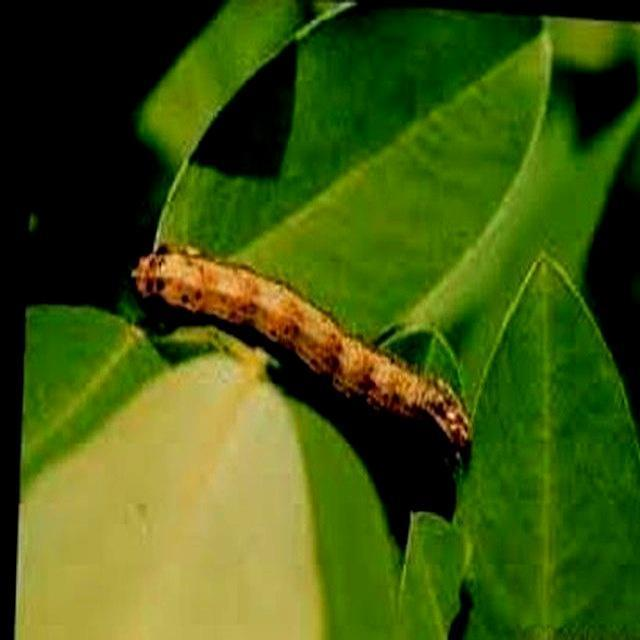gusano_cogollero: (127, 240, 476, 456)
